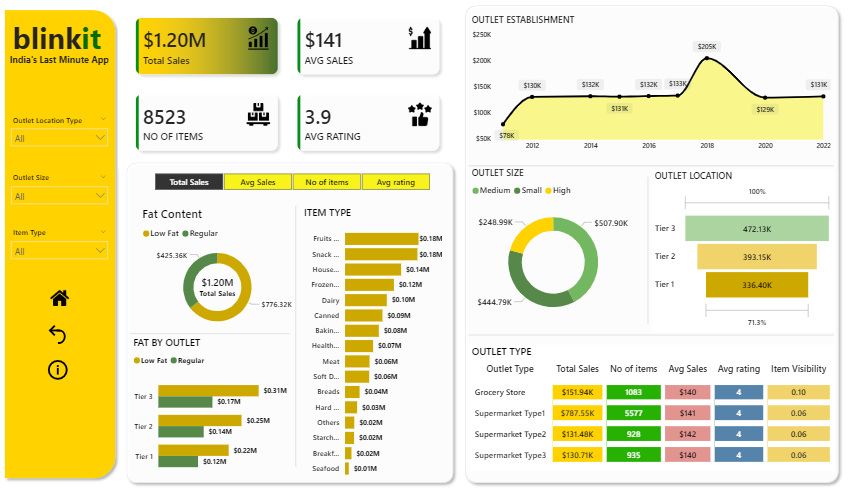

The dashboard page shown, as its layout file describes it:
{"tool":"powerbi","page":{"name":"Page 1","canvas":[1400,800],"ordinal":0},"visuals":[{"type":"shape","box":[0,7.1,200,785.7],"z":0},{"type":"textbox","box":[3.6,81.8,192.6,34.5],"z":1000},{"type":"textbox","box":[18.2,23.6,163.5,76.3],"z":2000},{"type":"cardVisual","fields":{"Data":["BlinkIT Grocery Data.Total Sales","BlinkIT Grocery Data.Avg Sales","BlinkIT Grocery Data.No of items","BlinkIT Grocery Data.Avg rating"]},"box":[195.8,0,557.7,276.7],"z":3000},{"type":"shape","box":[200.1,257.6,553.4,542.8],"z":4000},{"type":"donutChart","title":"Fat Content","fields":{"Y":["BlinkIT Grocery Data.Total Sales"],"Category":["BlinkIT Grocery Data.Item Fat Content"]},"box":[229.9,336.3,255.4,212.9],"z":5000},{"type":"slicer","fields":{"Values":["Metrics.Metrics"]},"box":[229.9,276.7,500.2,40.4],"z":6000},{"type":"cardVisual","fields":{"Data":["BlinkIT Grocery Data.Total Sales"]},"box":[298,434.2,121.3,70.2],"z":7000},{"type":"clusteredBarChart","title":"FAT BY OUTLET","fields":{"Y":["BlinkIT Grocery Data.Total Sales"],"Category":["BlinkIT Grocery Data.Outlet Location Type"],"Series":["BlinkIT Grocery Data.Item Fat Content"]},"box":[215,549.2,261.8,242.7],"z":8000},{"type":"shape","box":[215,542.8,261.8,8.5],"z":9000},{"type":"shape","box":[481.1,336.3,12.8,427.9],"z":10000},{"type":"barChart","title":"ITEM TYPE","fields":{"Y":["BlinkIT Grocery Data.Total Sales"],"Category":["BlinkIT Grocery Data.Item Type"]},"box":[493.8,336.3,236.3,455.5],"z":11000},{"type":"shape","box":[755.7,0,630.1,800.4],"z":12000},{"type":"lineChart","title":"OUTLET ESTABLISHMENT","fields":{"Category":["BlinkIT Grocery Data.Outlet Establishment Year"],"Y":["BlinkIT Grocery Data.Total Sales"]},"box":[770.6,23.4,598.1,234.1],"z":13000},{"type":"shape","box":[770.6,268.2,598.1,8.5],"z":14000},{"type":"donutChart","title":"OUTLET SIZE","fields":{"Y":["BlinkIT Grocery Data.Total Sales"],"Category":["BlinkIT Grocery Data.Outlet Size"]},"box":[770.6,272.5,276.7,266.1],"z":15000},{"type":"funnel","title":"OUTLET LOCATION","fields":{"Category":["BlinkIT Grocery Data.Outlet Location Type"],"Y":["Sum(BlinkIT Grocery Data.Sales)"]},"box":[1070.7,276.7,300.1,266.1],"z":16000},{"type":"shape","box":[1057.9,289.5,12.8,240.5],"z":17000},{"type":"shape","box":[770.6,544.9,598.1,8.5],"z":18000},{"type":"pivotTable","title":"OUTLET TYPE","fields":{"Rows":["BlinkIT Grocery Data.Outlet Type"],"Values":["BlinkIT Grocery Data.Total Sales","BlinkIT Grocery Data.No of items","BlinkIT Grocery Data.Avg Sales","BlinkIT Grocery Data.Avg rating","Avg(BlinkIT Grocery Data.Item Visibility)"]},"box":[770.6,564.1,600.3,206.5],"z":19000},{"type":"slicer","fields":{"Values":["BlinkIT Grocery Data.Outlet Location Type"]},"box":[10.6,183.1,178.8,74.5],"z":20000},{"type":"slicer","fields":{"Values":["BlinkIT Grocery Data.Outlet Size"]},"box":[10.6,276.7,178.8,74.5],"z":21000},{"type":"slicer","fields":{"Values":["BlinkIT Grocery Data.Item Type"]},"box":[10.6,368.3,178.8,74.5],"z":22000},{"type":"bookmarkNavigator","box":[0,0,168.2,183.1],"z":24000},{"type":"actionButton","box":[75.7,584.3,48.6,42.9],"z":24002},{"type":"image","box":[65.7,470,68.6,38.6],"z":24003},{"type":"actionButton","box":[75.7,527.1,50,41.4],"z":24004}]}

Visuals, with their boxes in screenshot pixels (x1, y1, x2, y2), scaled from the page's 1400x800 canvas onto the 848x488 screenshot:
shape: 0,4,121,484
textbox: 2,50,119,71
textbox: 11,14,110,61
cardVisual - BlinkIT Grocery Data.Total Sales x BlinkIT Grocery Data.Avg Sales: 119,0,456,169
shape: 121,157,456,487
"Fat Content" donutChart: 139,205,294,335
slicer - Metrics.Metrics: 139,169,442,193
cardVisual - BlinkIT Grocery Data.Total Sales: 181,265,254,308
"FAT BY OUTLET" clusteredBarChart: 130,335,289,483
shape: 130,331,289,336
shape: 291,205,299,466
"ITEM TYPE" barChart: 299,205,442,483
shape: 458,0,839,487
"OUTLET ESTABLISHMENT" lineChart: 467,14,829,157
shape: 467,164,829,169
"OUTLET SIZE" donutChart: 467,166,634,329
"OUTLET LOCATION" funnel: 649,169,830,331
shape: 641,177,649,323
shape: 467,332,829,338
"OUTLET TYPE" pivotTable: 467,344,830,470
slicer - BlinkIT Grocery Data.Outlet Location Type: 6,112,115,157
slicer - BlinkIT Grocery Data.Outlet Size: 6,169,115,214
slicer - BlinkIT Grocery Data.Item Type: 6,225,115,270
bookmarkNavigator: 0,0,102,112
actionButton: 46,356,75,383
image: 40,287,81,310
actionButton: 46,322,76,347
